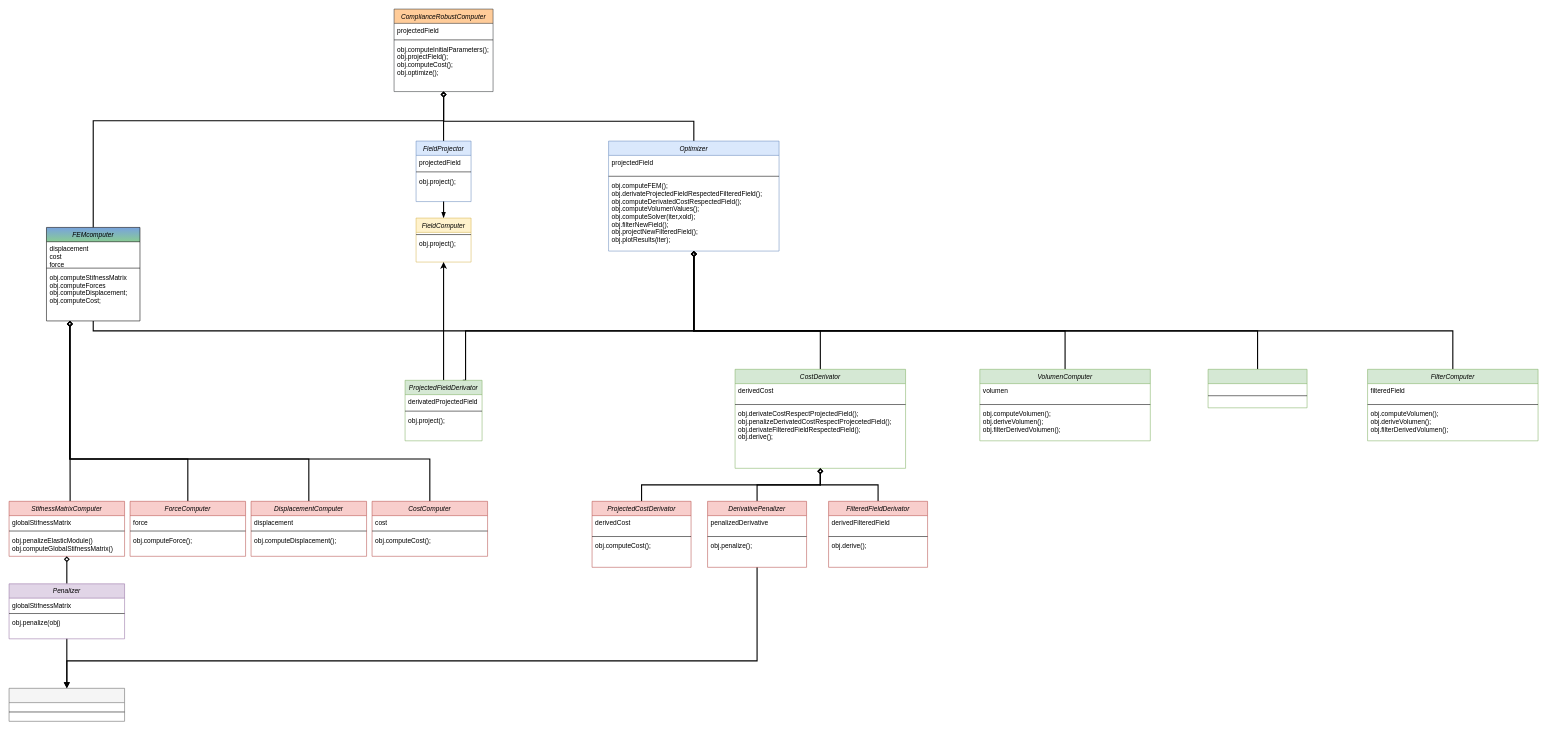
Some shapes in this 1547 by 730 pixel diagram are drawn without their labels. Each missing label, with the centre of its shape:
"CostAndConstraintArturo" goes at point (1257, 388).
"SIMPcomputer" goes at point (67, 704).
